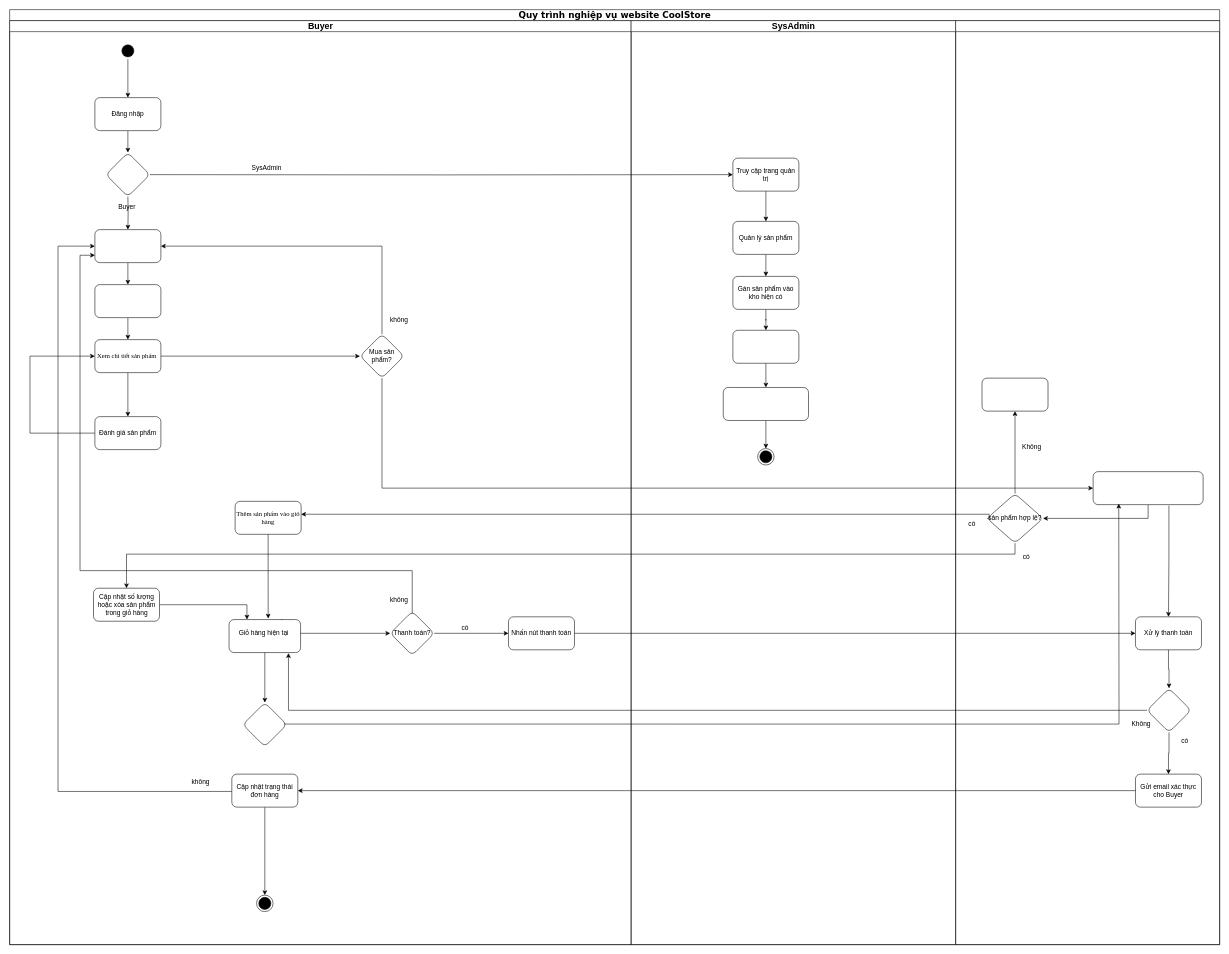
Some shapes in this 1229 by 954 pixel diagram are drawn without their labels. Each missing label, with the box of its shape:
Báo lỗi: (981, 378, 1048, 411)
Chỉnh sửa?: (242, 702, 287, 747)
Hệ thống: (955, 20, 1220, 945)
Kích hoạt hoặc vô hiệu hóa giỏ hàng không hợp lệ: (723, 387, 809, 420)
l ọc và sắp xếp sản phẩm theo tên và giá: (94, 284, 161, 318)
Loại tài khoản?: (105, 152, 150, 197)
Thanh toán thành công?: (1146, 688, 1191, 732)
Truy cập trang danh mục sản phẩm: (94, 229, 161, 263)
Xem toàn bộ giỏ hàng của bất kỳ người dùng nào: (732, 330, 799, 363)
Xác thực thông tin sản phẩm: (1093, 471, 1203, 505)
